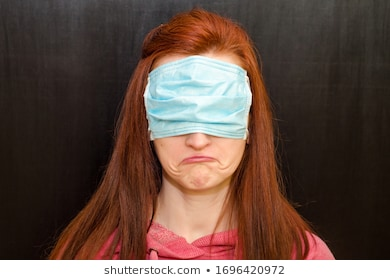mask_weared_incorrect: (149, 63, 249, 186)
